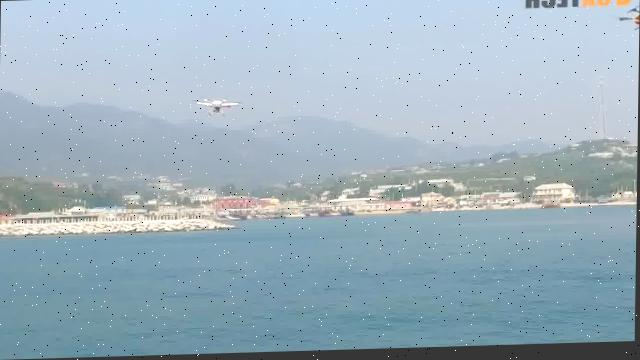drone: (186, 88, 243, 124)
